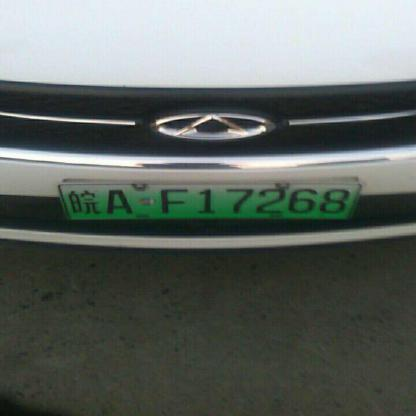lp: (56, 184, 72, 221)
